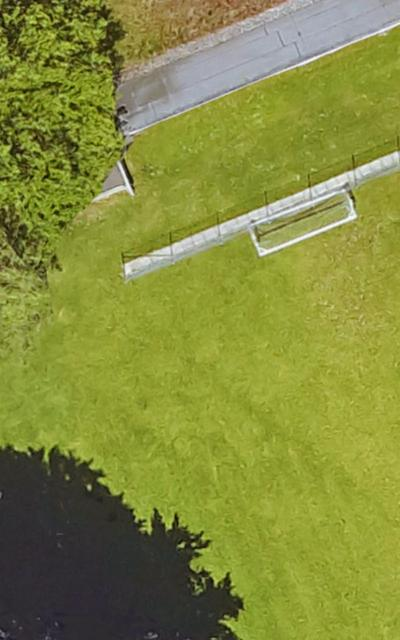tree: (1, 0, 122, 232), (1, 237, 51, 361)
